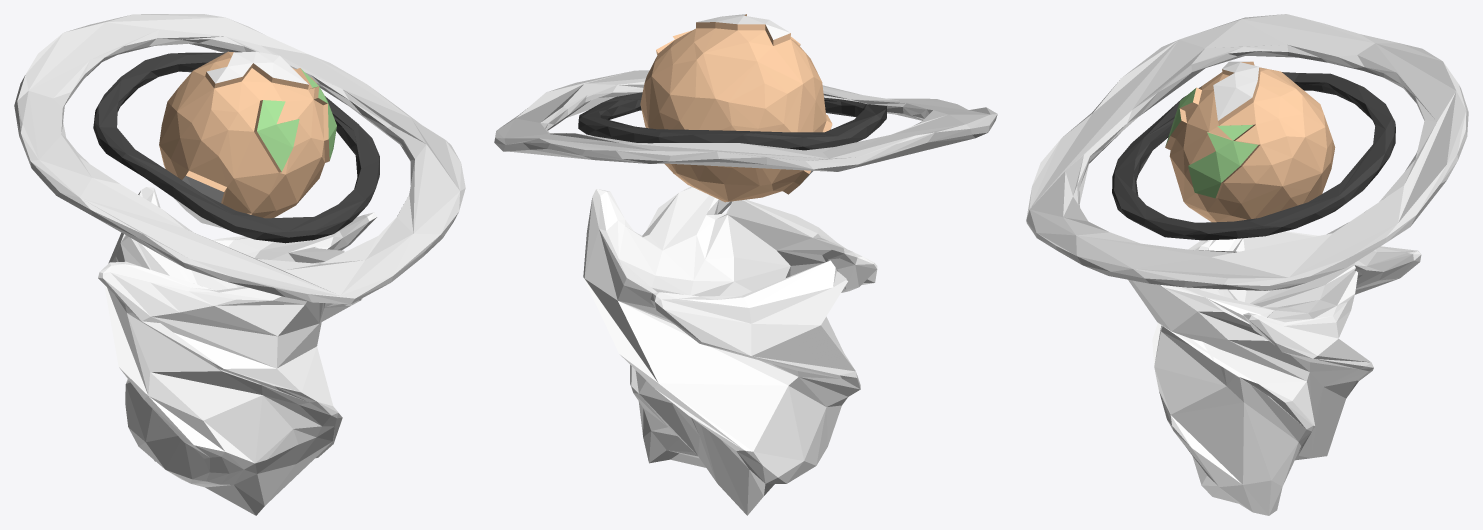
Rendered from like saturn planet.fbx.
3 views of the same model, side by side, from view 1: azimuth 30°, elevation 25°; view 2: azimuth 150°, elevation 25°; view 3: azimuth 270°, elevation 25° (orthographic). The views are drawn at different scales.
Parts seen in each view (by area): view 1: Circle, Platform, Planet; view 2: Platform, Circle, Planet; view 3: Circle, Platform, Planet.
Part boxes in pixels (<box>): Circle: <box>14,14,465,304</box>; Platform: <box>98,187,377,515</box>; Planet: <box>159,51,336,228</box>; Platform: <box>583,186,877,515</box>; Circle: <box>494,70,997,171</box>; Planet: <box>640,14,832,202</box>; Circle: <box>1026,14,1468,290</box>; Platform: <box>1128,231,1421,515</box>; Planet: <box>1165,61,1335,222</box>.
Bounding box in the file's own units: 1423 × 1477 × 1374.
